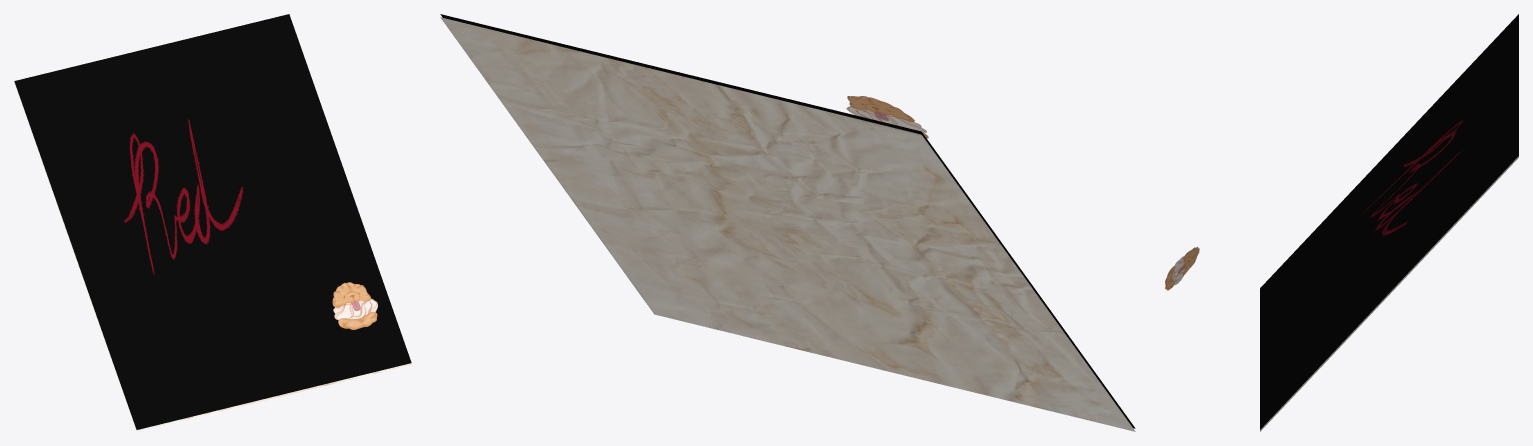
The model's file is testparchment.gltf.
3 views of the same model, side by side, from view 1: azimuth 30°, elevation 25°; view 2: azimuth 150°, elevation 25°; view 3: azimuth 270°, elevation 25° (orthographic). The views are drawn at different scales.
Visible parts, largest first — view 1: Plane.001, Plane.002, Plane; view 2: Plane, Plane.001, Plane.002; view 3: Plane.001, Plane, Plane.002.
Boxes of the visible parts, x1,y1,x2,y2 form: Plane.001: (14,14,411,429); Plane.002: (332,282,377,329); Plane: (14,83,411,431); Plane: (440,17,1135,431); Plane.001: (440,14,1135,428); Plane.002: (846,96,928,138); Plane.001: (1260,14,1518,429); Plane: (1260,156,1518,431); Plane.002: (1165,247,1199,290).
Bounding box in the file's own units: 2 × 1.82 × 2.11.
3 materials, 3 textured.
